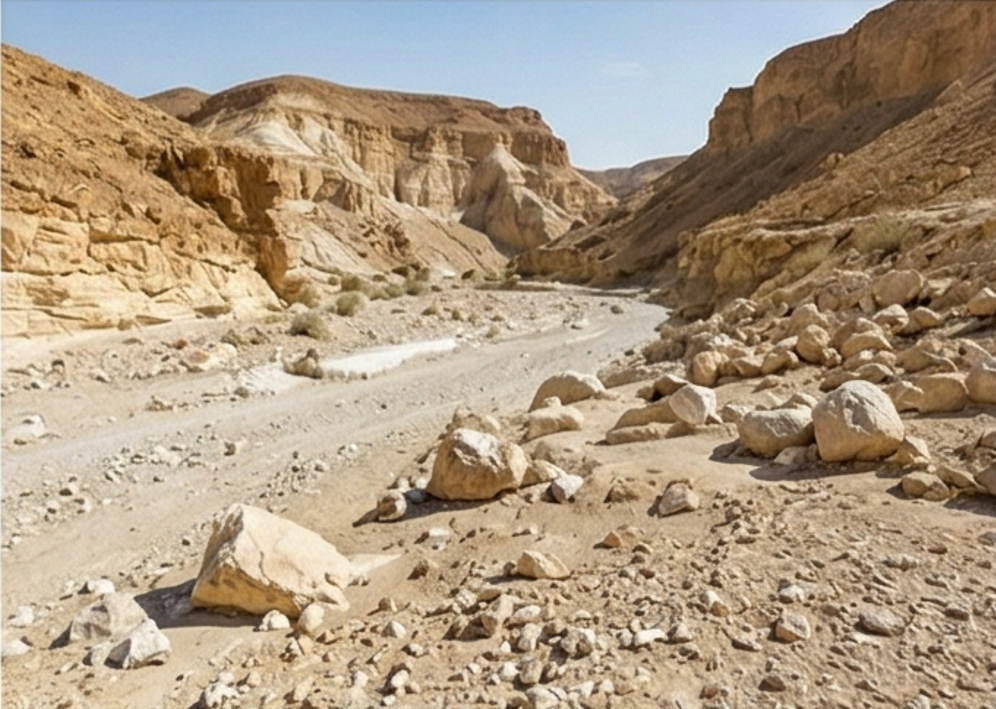rocks: (191, 504, 359, 619), (426, 428, 529, 500), (813, 385, 900, 467), (738, 402, 814, 458), (621, 377, 702, 428), (524, 377, 607, 407), (667, 385, 716, 423)
